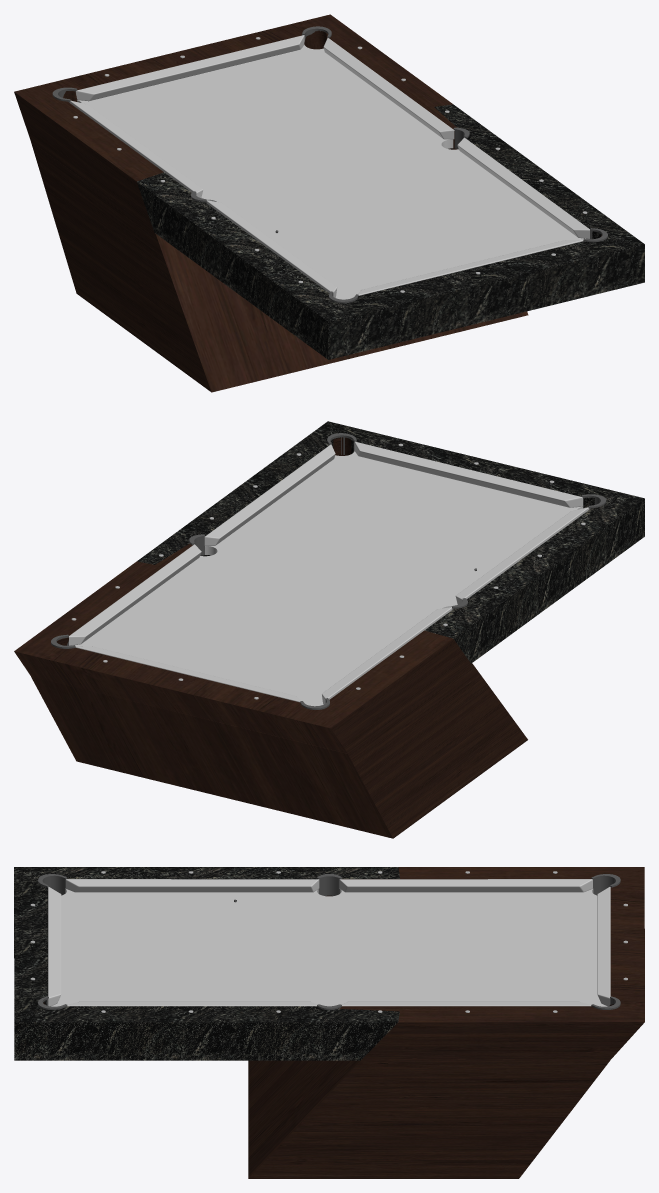
The model's file is table.fbx.
3 renders of one model, top to bottom at view 1: azimuth 30°, elevation 25°; view 2: azimuth 150°, elevation 25°; view 3: azimuth 270°, elevation 25°, orthographic.
Parts seen in each view (by area): view 1: Pool Table, Line005, Group1871018388; view 2: Pool Table, Line005, Group1871018388; view 3: Pool Table, Line005, Group1871018388.
Boxes of the visible parts, box(x1,y1,x2,y2) form: Pool Table: box(52, 26, 607, 303); Line005: box(14, 14, 601, 392); Group1871018388: box(137, 104, 644, 359); Pool Table: box(51, 433, 606, 709); Line005: box(14, 437, 527, 838); Group1871018388: box(137, 421, 644, 663); Pool Table: box(30, 871, 627, 1012); Line005: box(43, 867, 644, 1178); Group1871018388: box(14, 867, 399, 1060).
Size of the model in its own units: 174 by 83.84 by 299.
